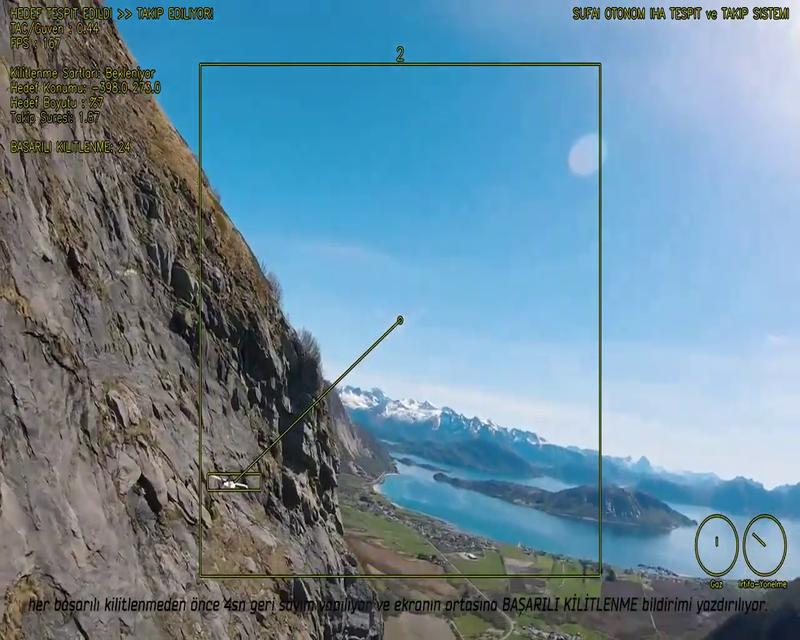UAV: (210, 474, 248, 490)
